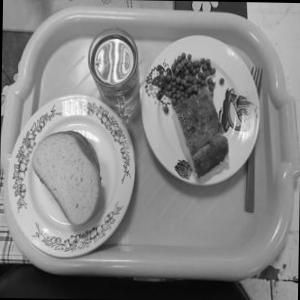bread: (20, 125, 112, 234)
casserole: (147, 49, 244, 183)
tea: (82, 23, 146, 114)
